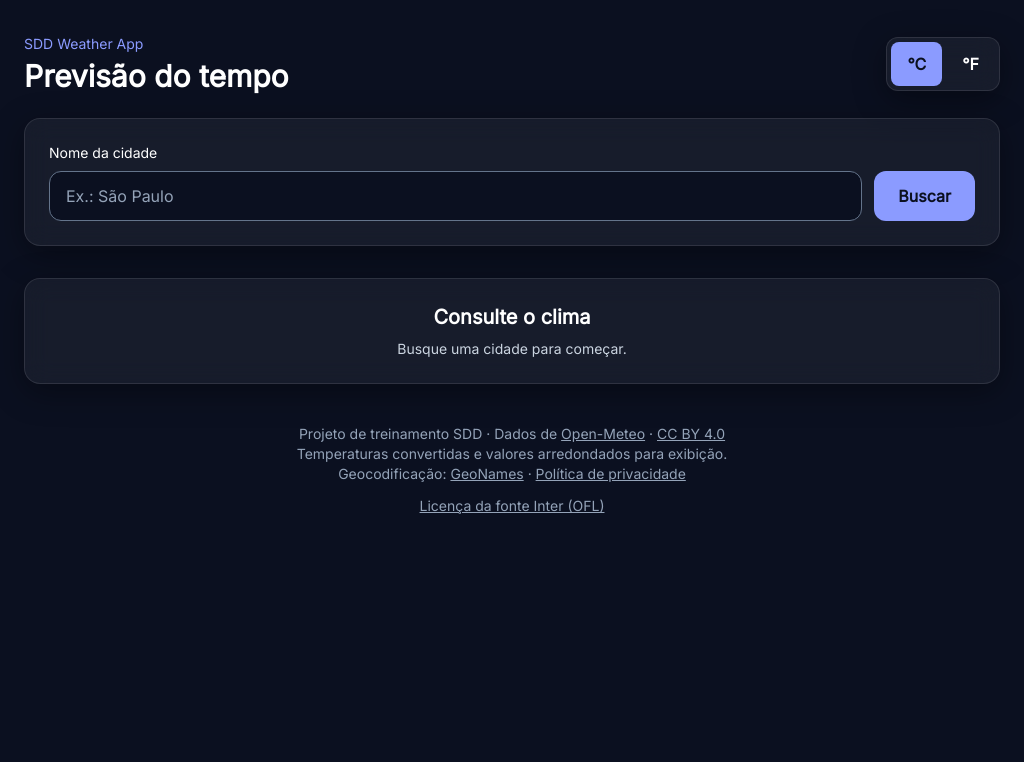
Test: App integrado ao hook › aplica a unidade alterada durante o carregamento a todas as temperaturas resolvidas
Type "São Paulo" into the search field labelled "Nome da cidade".
click(456, 196); type("São Paulo")  # box left=49, top=171, right=862, bottom=221
Then press Enter
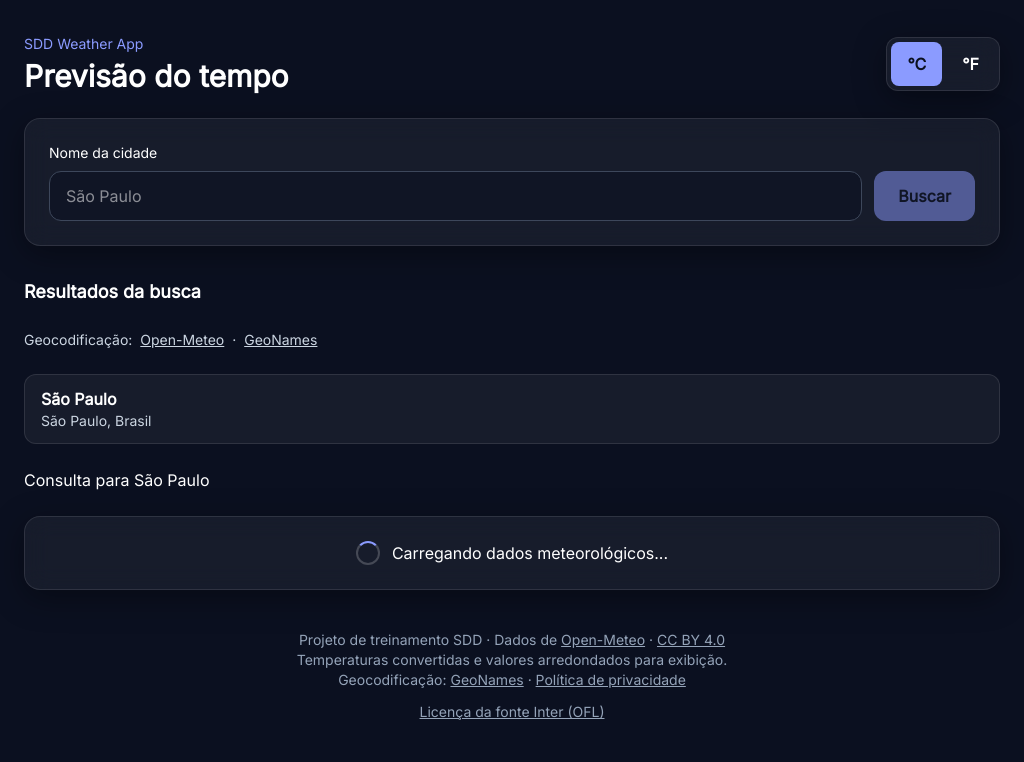
Expected: the message reads "Carregando dados meteorológicos...", left=392, top=543, right=668, bottom=563
Click the button "°F".
click(971, 64)  # box left=946, top=42, right=995, bottom=86
(page scrolled)
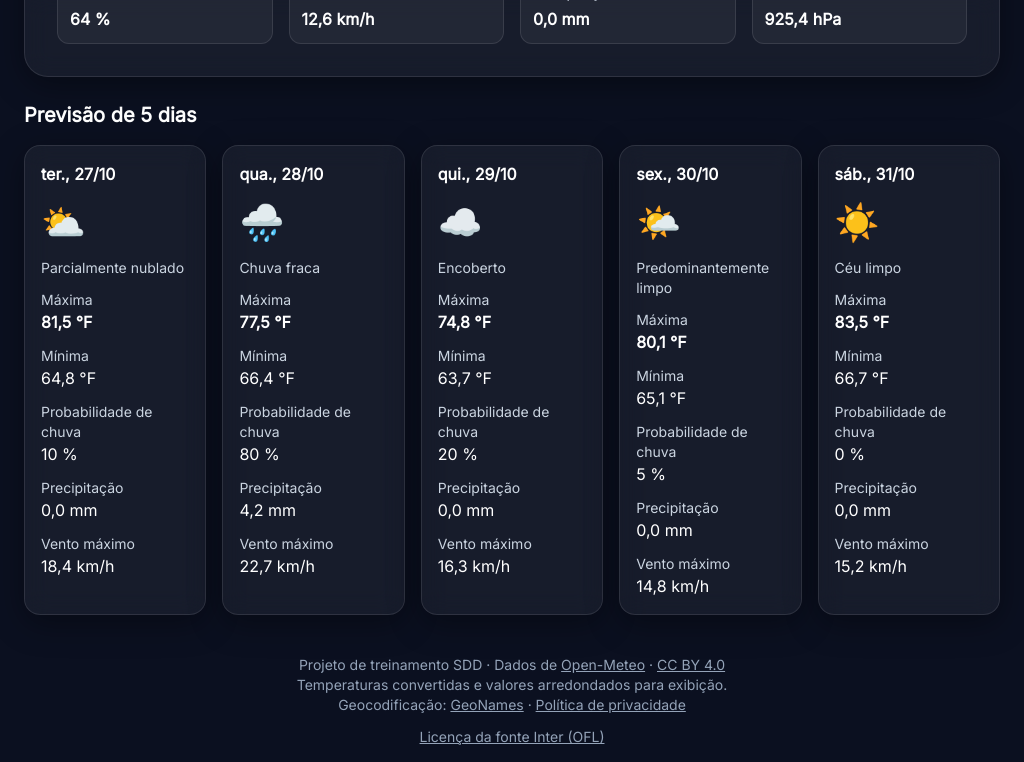
Expected: the text "81,5 °F" is shown, left=41, top=312, right=92, bottom=332
Expected: the text "64,8 °F" is shown, left=41, top=368, right=96, bottom=388
